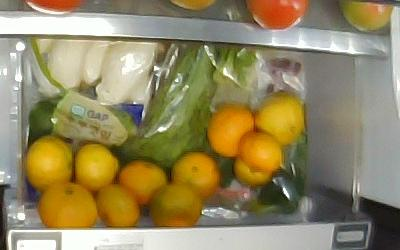tangerine: (253, 92, 304, 145), (38, 184, 96, 229), (24, 137, 71, 192), (208, 102, 253, 156), (149, 184, 200, 228), (118, 161, 167, 205), (74, 143, 117, 192), (94, 185, 140, 229), (171, 152, 218, 195), (240, 132, 282, 172), (233, 156, 271, 187)
